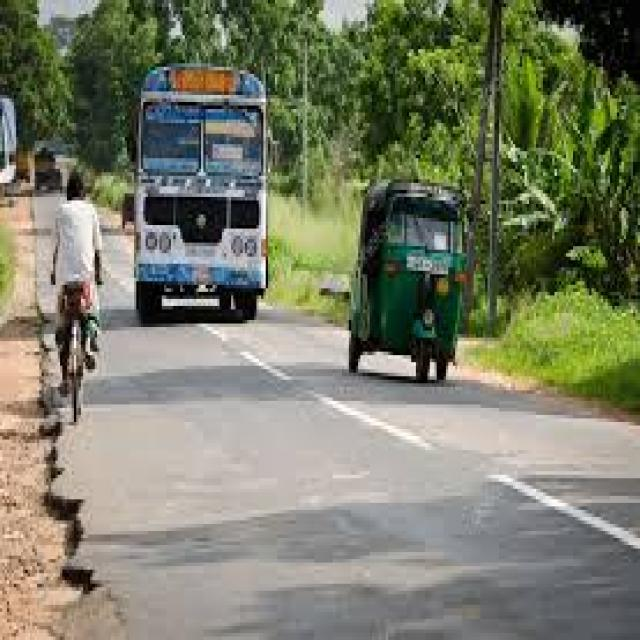bus: (118, 43, 282, 350)
tuktuk: (337, 150, 498, 424)
